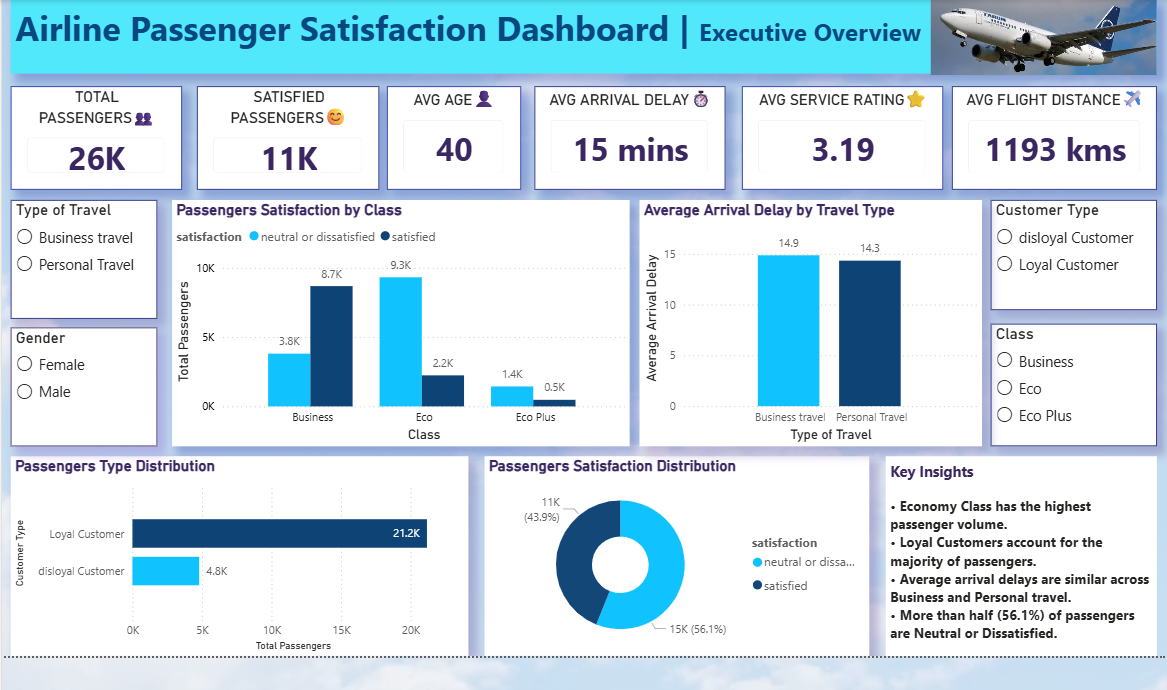

Layout of this report page (visuals, bound fields, positions):
{"tool":"powerbi","page":{"name":"Page 1","canvas":[1280,720],"ordinal":0},"visuals":[{"type":"textbox","box":[9.6,0,1258.3,81],"z":0},{"type":"cardVisual","title":"TOTAL PASSENGERS👥","fields":{"Data":["aeroplane_1.Total Passengers"]},"box":[9.6,94.7,188,113.9],"z":1000},{"type":"cardVisual","title":"SATISFIED PASSENGERS😊","fields":{"Data":["aeroplane_1.Satisfied Passengers"]},"box":[214.1,94.7,200.3,113.9],"z":2000},{"type":"cardVisual","title":"AVG AGE👤","fields":{"Data":["aeroplane_1.Average Age"]},"box":[422.6,94.7,146.8,113.9],"z":3000},{"type":"cardVisual","title":"AVG ARRIVAL DELAY⏱️","fields":{"Data":["aeroplane_1.Average Arrival Delay"]},"box":[584.6,94.7,209.9,113.9],"z":4000},{"type":"cardVisual","title":"AVG SERVICE RATING⭐","fields":{"Data":["aeroplane_1.Average Service Rating"]},"box":[812.4,94.7,220.9,113.9],"z":5000},{"type":"cardVisual","title":"AVG FLIGHT DISTANCE✈️","fields":{"Data":["aeroplane_1.Average Flight Distance"]},"box":[1042.9,94.7,225,113.9],"z":6000},{"type":"clusteredColumnChart","title":"Passengers Satisfaction by Class ","fields":{"Category":["aeroplane_1.Class"],"Y":["aeroplane_1.Total Passengers"],"Series":["aeroplane_1.satisfaction"]},"box":[186.6,219.6,502.2,270.3],"z":7000},{"type":"listSlicer","fields":{"Values":["aeroplane_1.Class"]},"box":[1085.4,355.4,182.5,134.5],"z":8000},{"type":"listSlicer","fields":{"Values":["aeroplane_1.Type of Travel"]},"box":[9.6,219.6,160.5,130.4],"z":9000},{"type":"listSlicer","fields":{"Values":["aeroplane_1.Customer Type"]},"box":[1085.4,219.6,182.5,120.8],"z":10000},{"type":"donutChart","title":"Passengers Satisfaction Distribution","fields":{"Category":["aeroplane_1.satisfaction"],"Y":["aeroplane_1.Total Passengers"]},"box":[529.7,500.9,422.6,219.6],"z":11000},{"type":"clusteredBarChart","title":"Passengers Type Distribution","fields":{"Category":["aeroplane_1.Customer Type"],"Y":["aeroplane_1.Total Passengers"]},"box":[9.6,500.9,502.2,219.6],"z":12000},{"type":"columnChart","title":"Average Arrival Delay by Travel Type ","fields":{"Category":["aeroplane_1.Type of Travel"],"Y":["aeroplane_1.Average Arrival Delay"]},"box":[699.8,219.6,376,270.3],"z":13000},{"type":"image","box":[1019.6,0,248.4,82.3],"z":14000},{"type":"textbox","box":[970.2,500.9,297.8,219.6],"z":15000},{"type":"listSlicer","fields":{"Values":["aeroplane_1.Gender"]},"box":[9.6,359.5,160.5,130.4],"z":16000}]}

Visuals, with their boxes on the page's 1280x720 design canvas (x1, y1, x2, y2). These are canvas units, not pixel positions in the 1167x690 screenshot, which may show the page scaled, cropped or inside an application window:
textbox: 10,0,1268,81
"TOTAL PASSENGERS👥" cardVisual: 10,95,198,209
"SATISFIED PASSENGERS😊" cardVisual: 214,95,414,209
"AVG AGE👤" cardVisual: 423,95,569,209
"AVG ARRIVAL DELAY⏱️" cardVisual: 585,95,794,209
"AVG SERVICE RATING⭐" cardVisual: 812,95,1033,209
"AVG FLIGHT DISTANCE✈️" cardVisual: 1043,95,1268,209
"Passengers Satisfaction by Class " clusteredColumnChart: 187,220,689,490
listSlicer - aeroplane_1.Class: 1085,355,1268,490
listSlicer - aeroplane_1.Type of Travel: 10,220,170,350
listSlicer - aeroplane_1.Customer Type: 1085,220,1268,340
"Passengers Satisfaction Distribution" donutChart: 530,501,952,720
"Passengers Type Distribution" clusteredBarChart: 10,501,512,720
"Average Arrival Delay by Travel Type " columnChart: 700,220,1076,490
image: 1020,0,1268,82
textbox: 970,501,1268,720
listSlicer - aeroplane_1.Gender: 10,360,170,490
